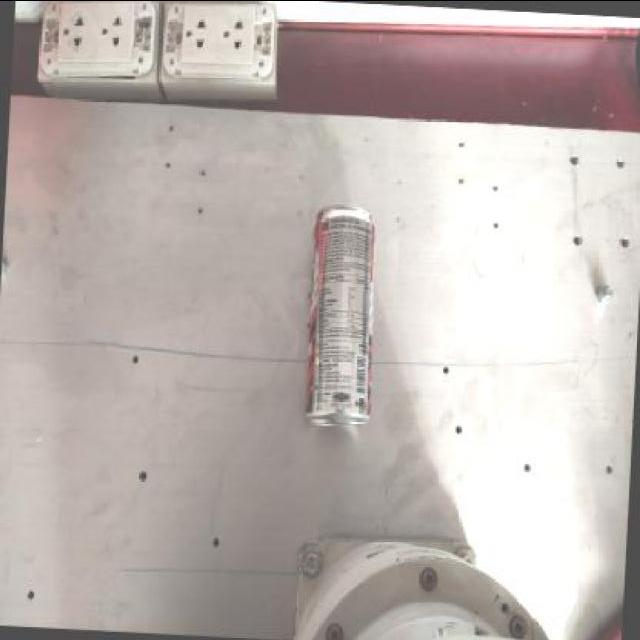can: (298, 192, 389, 440)
